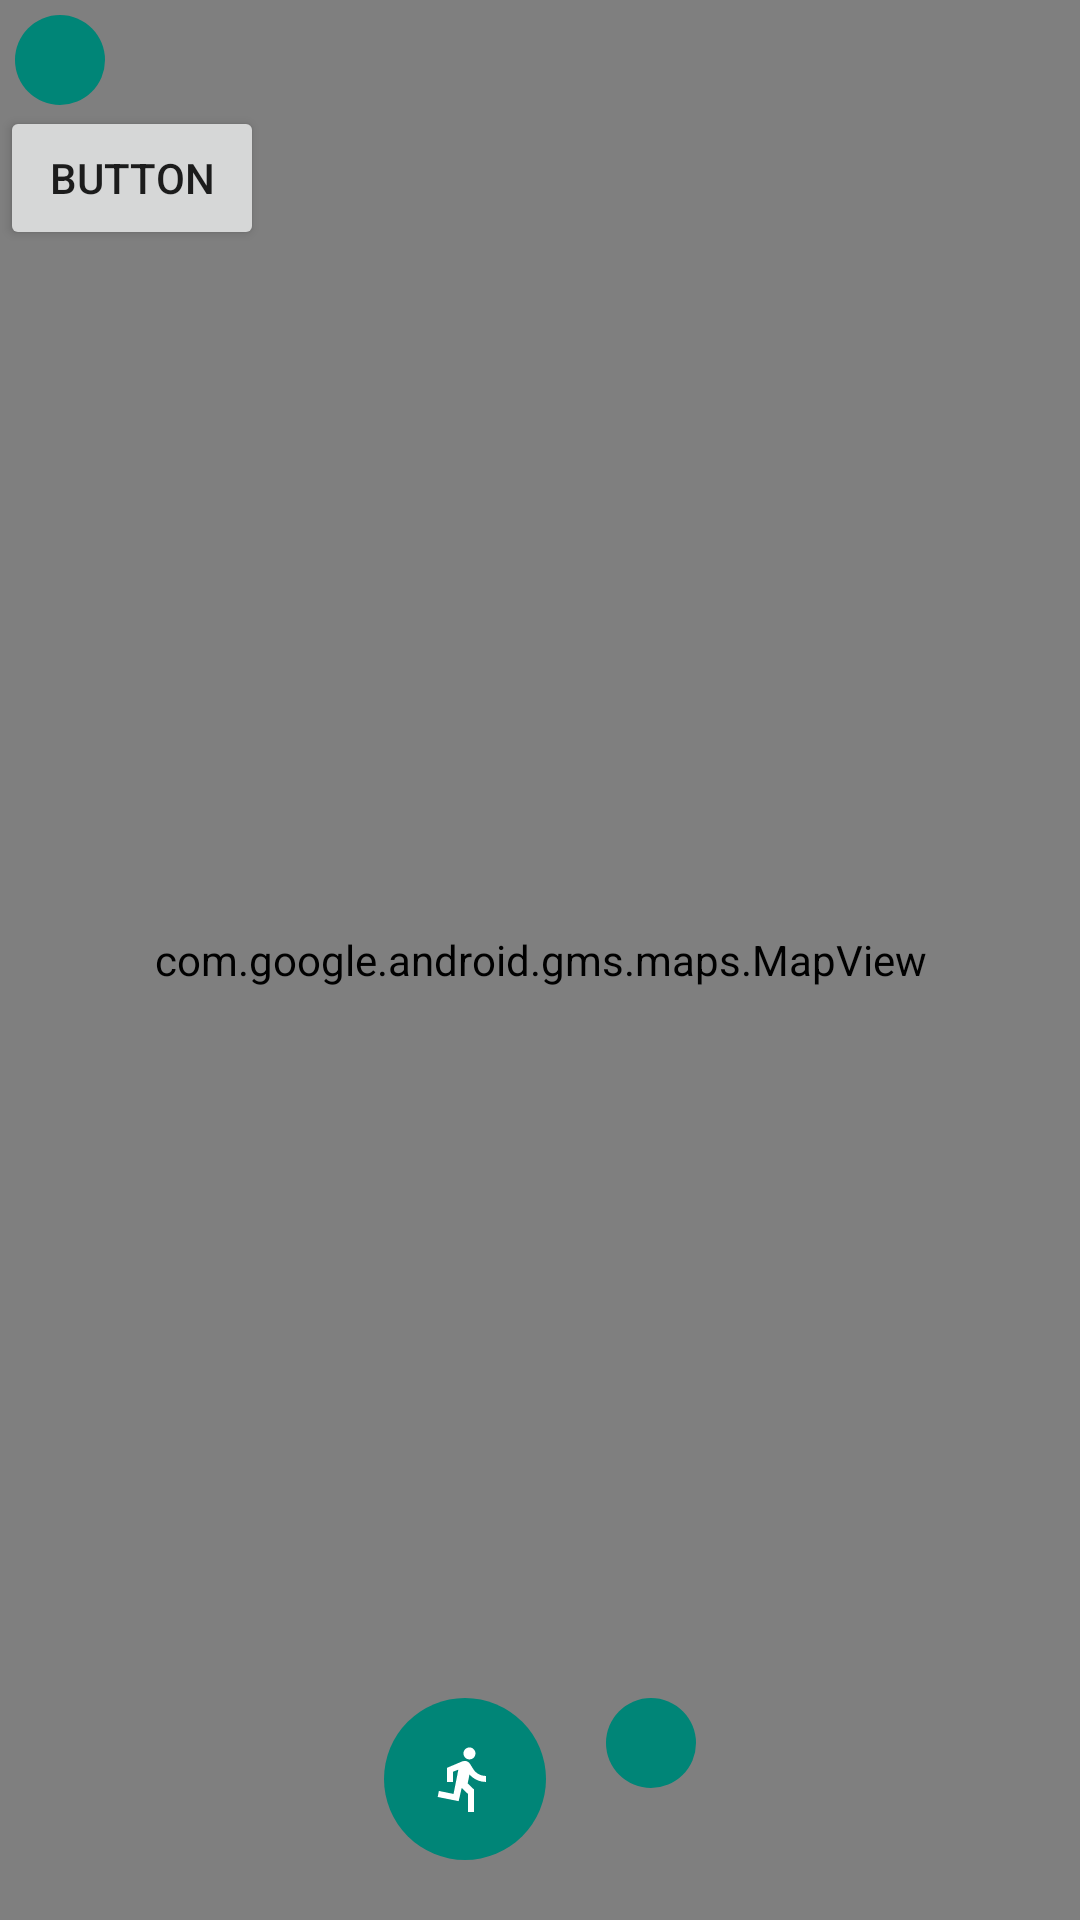

Point at icon controls on the screen. Image size 1080x1920, points as [x,y].
directions run: [465,1779]
